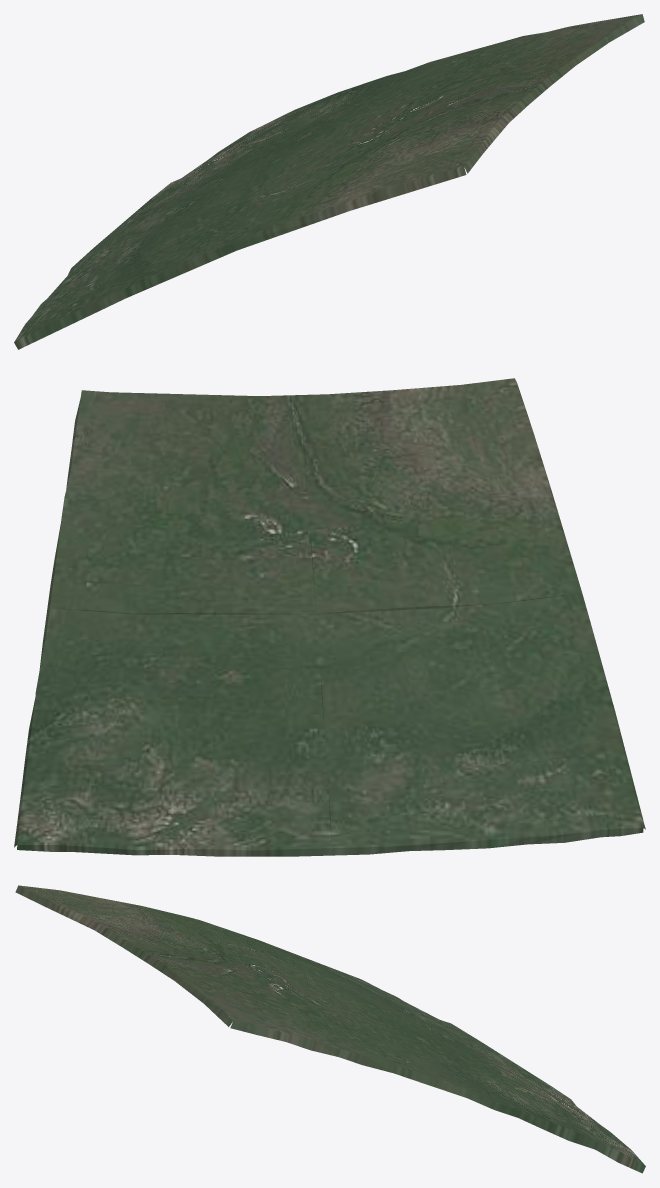
The picture shows the model from 3 angles, top to bottom: view 1: azimuth 30°, elevation 25°; view 2: azimuth 150°, elevation 25°; view 3: azimuth 270°, elevation 25°; orthographic projection. The views are drawn at different scales.
Size of the model in its own units: 1586523 by 616880 by 1569039.
Materials: 1 (1 with a texture image).
